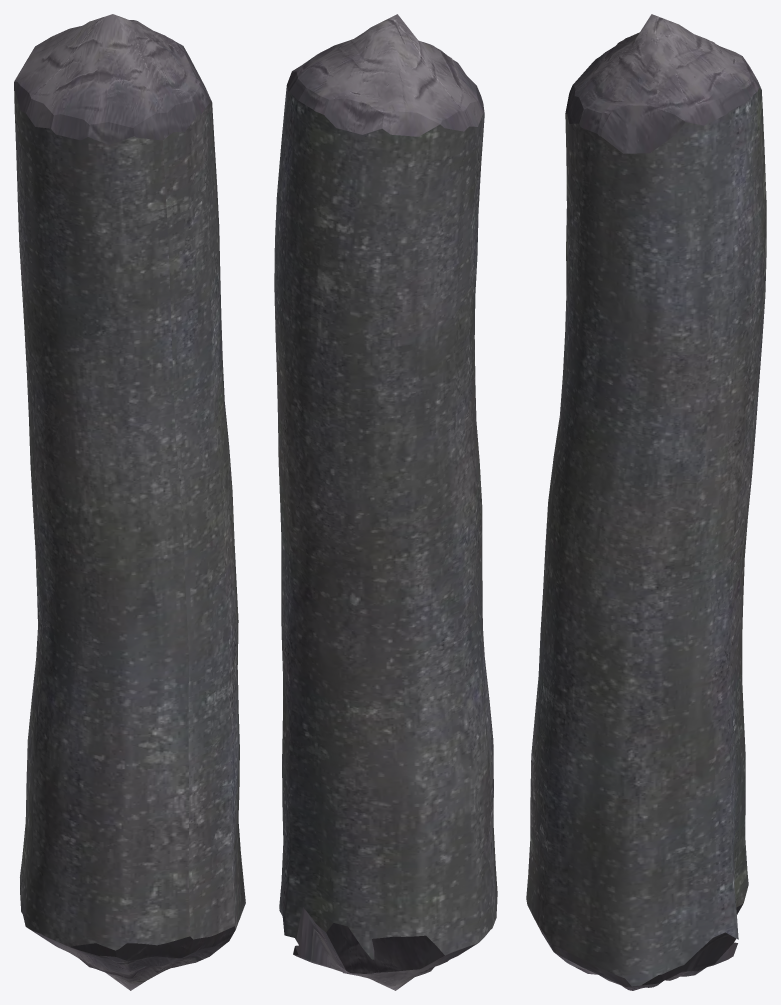
3 renders of one model, left to right at view 1: azimuth 30°, elevation 25°; view 2: azimuth 150°, elevation 25°; view 3: azimuth 270°, elevation 25°, orthographic.
Parts seen in each view (by area): view 1: SM_FH_Ash_Tree_01_quarter_01_LOD0; view 2: SM_FH_Ash_Tree_01_quarter_01_LOD0; view 3: SM_FH_Ash_Tree_01_quarter_01_LOD0.
Boxes of the visible parts, box(x1,y1,x2,y2) form: SM_FH_Ash_Tree_01_quarter_01_LOD0: box(14, 14, 245, 990); SM_FH_Ash_Tree_01_quarter_01_LOD0: box(274, 14, 497, 990); SM_FH_Ash_Tree_01_quarter_01_LOD0: box(526, 14, 766, 990).
Bounding box in the file's own units: 0.558 × 2.55 × 0.5727.
1 material, 1 textured.
